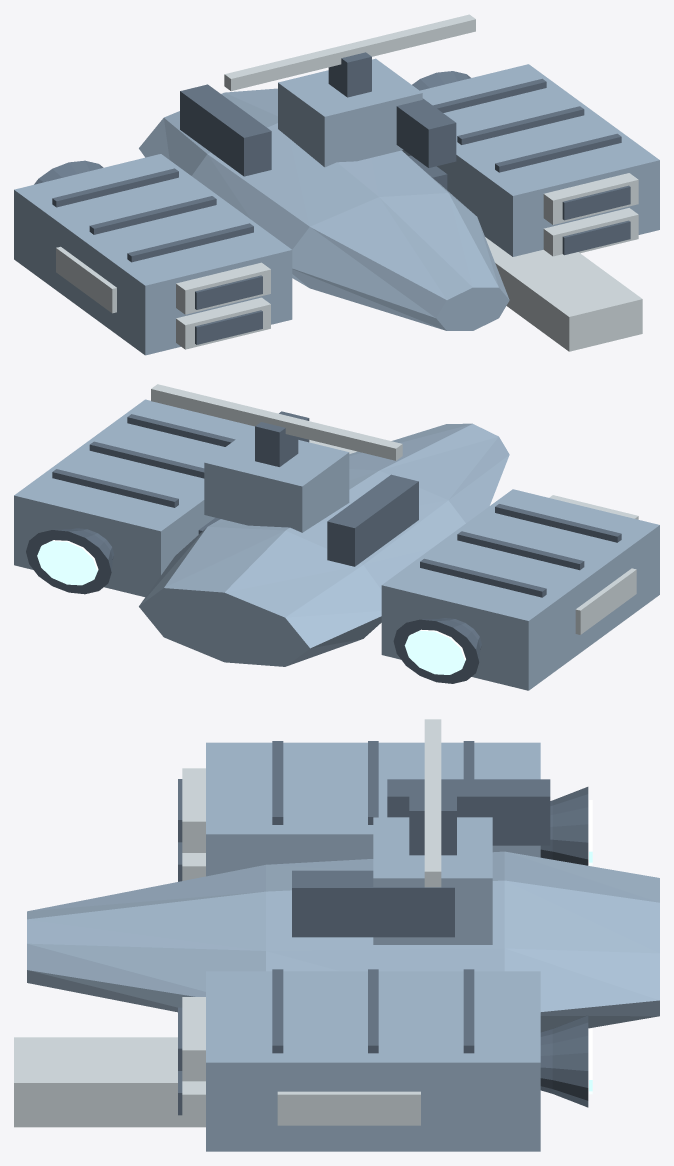
3 renders of one model, top to bottom at view 1: azimuth 30°, elevation 25°; view 2: azimuth 150°, elevation 25°; view 3: azimuth 270°, elevation 25°, orthographic. The views are drawn at different scales.
Size of the model in its own units: 11.36 by 4.1 by 9.51.
